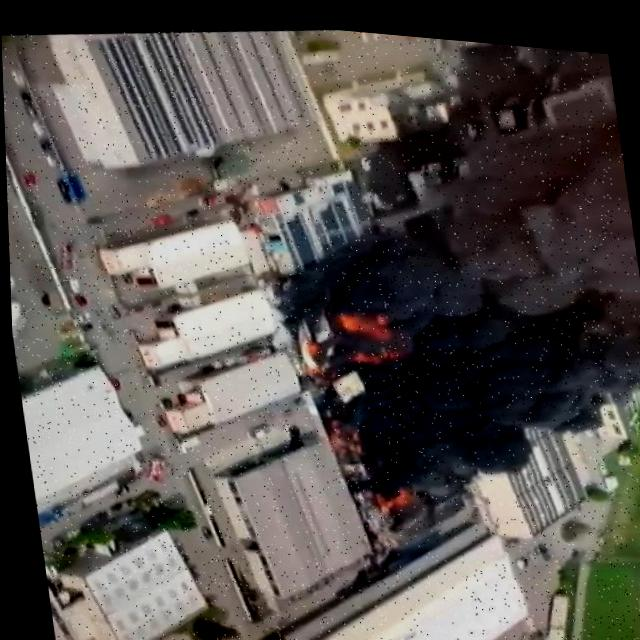no_helmet: (379, 78, 640, 510), (311, 218, 438, 512)
